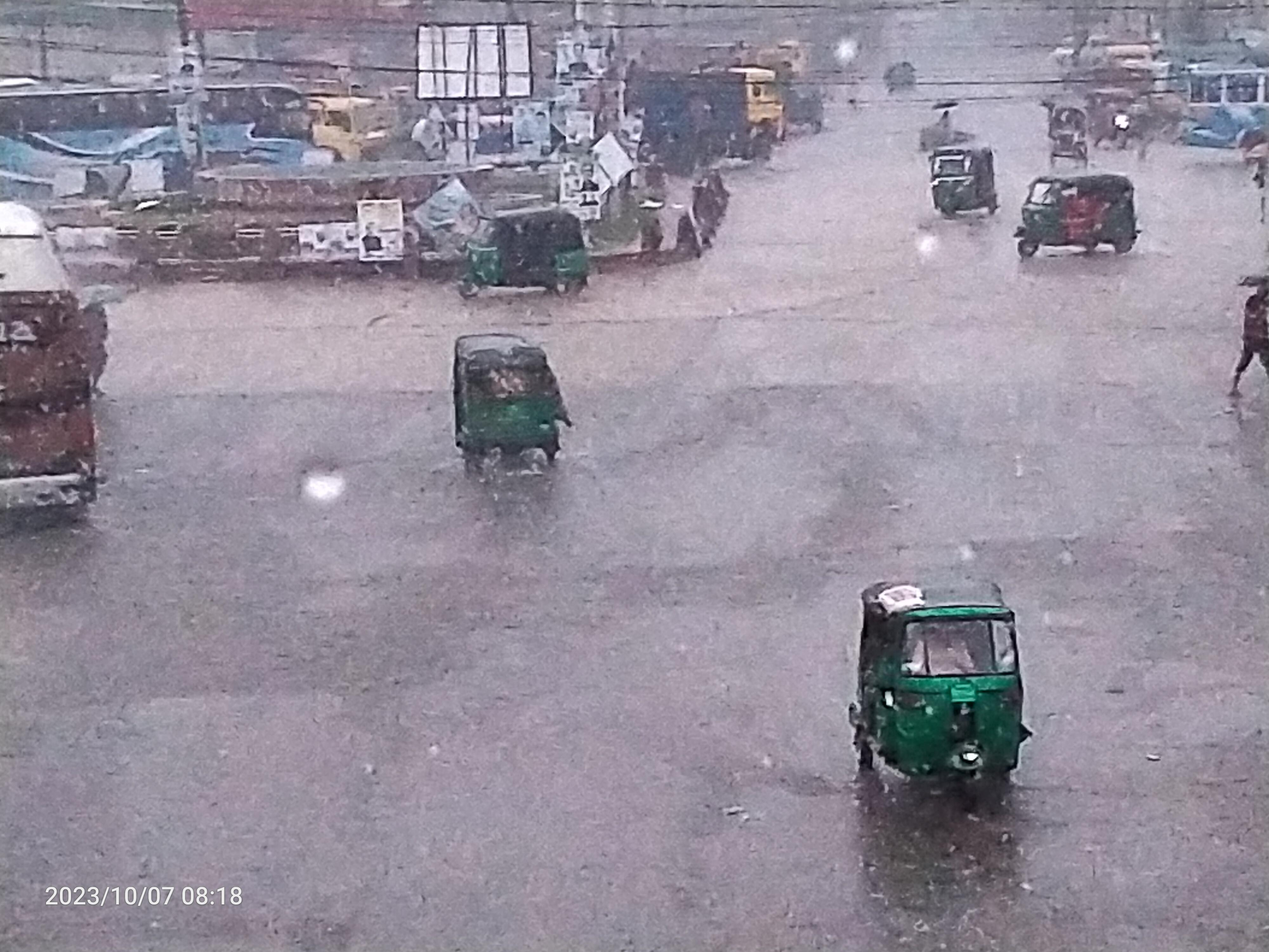Bus: (0, 48, 339, 239), (0, 174, 130, 562), (1166, 56, 1269, 178)
Car: (1026, 86, 1104, 174)
Truck: (609, 50, 802, 175)
